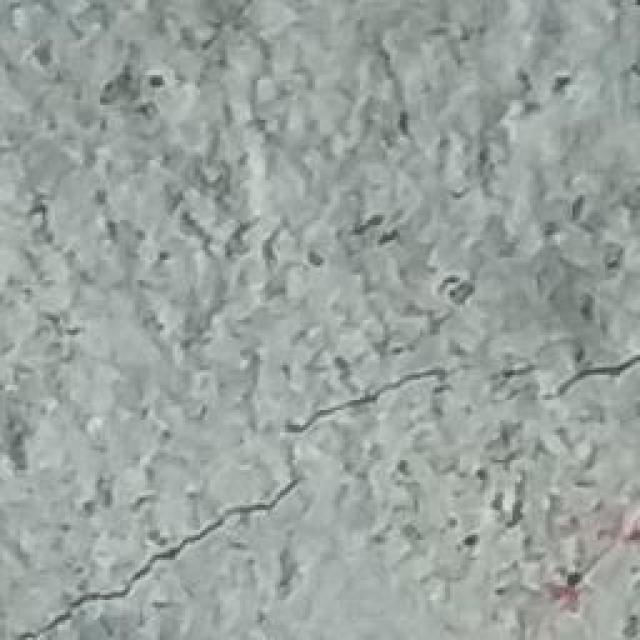Diagonal: (0, 357, 640, 640)
Rippled: (0, 0, 640, 347)
